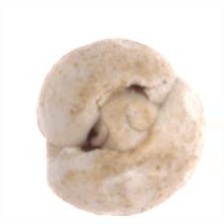L3: (76, 80, 163, 152)
L4: (37, 39, 205, 216)
